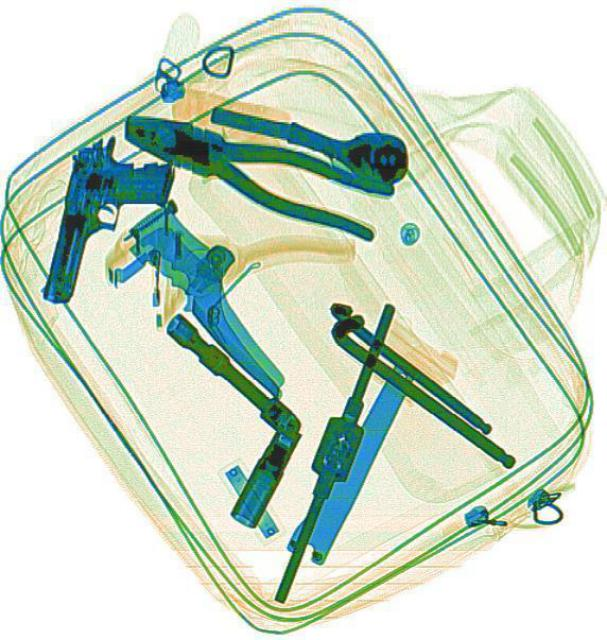Gun: (35, 127, 178, 321)
Pliers: (111, 96, 396, 244)
